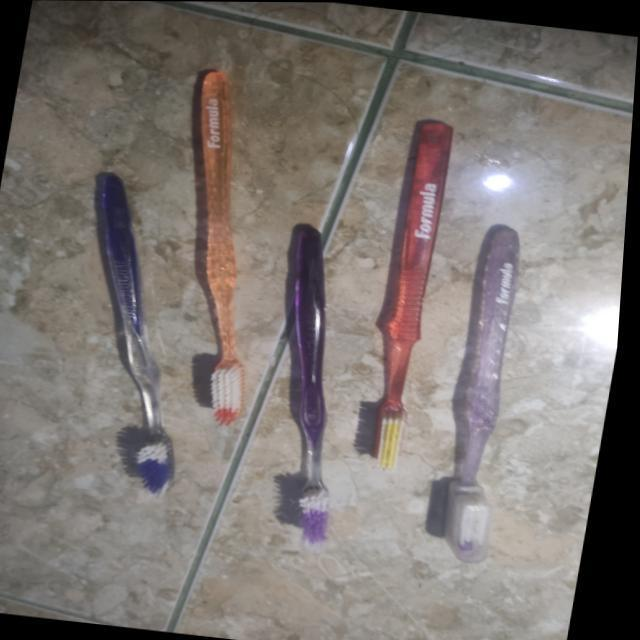toothbrush: (7, 150, 243, 514), (112, 47, 324, 436), (228, 208, 394, 550), (412, 211, 560, 573), (344, 103, 470, 481)
